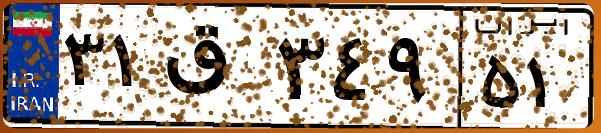1: (525, 38, 570, 115), (110, 28, 158, 98)
3: (270, 28, 330, 110), (57, 26, 110, 100)
4: (330, 28, 385, 110)
5: (475, 38, 525, 113)
9: (385, 28, 445, 110)
ق: (158, 20, 270, 120)
